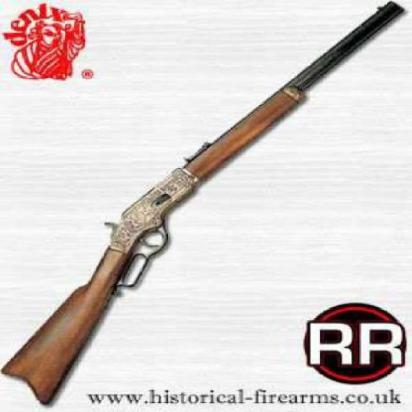Gun: (0, 0, 400, 401)
